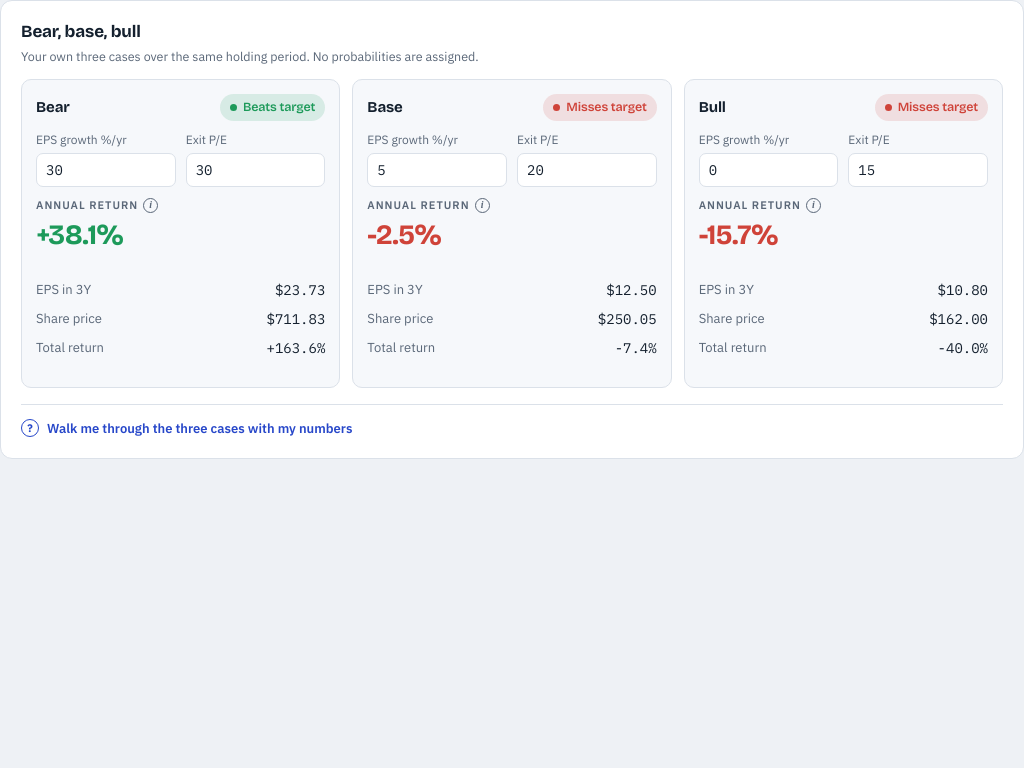
Test: the walkthrough of the three cases › names the actual passing case when the outcomes are reordered
What coordinates should you click on to do the following:
click the button "Walk me through the three cases with my numbers"
I would click on:
 (187, 428)
Its box is [21,416,352,440].
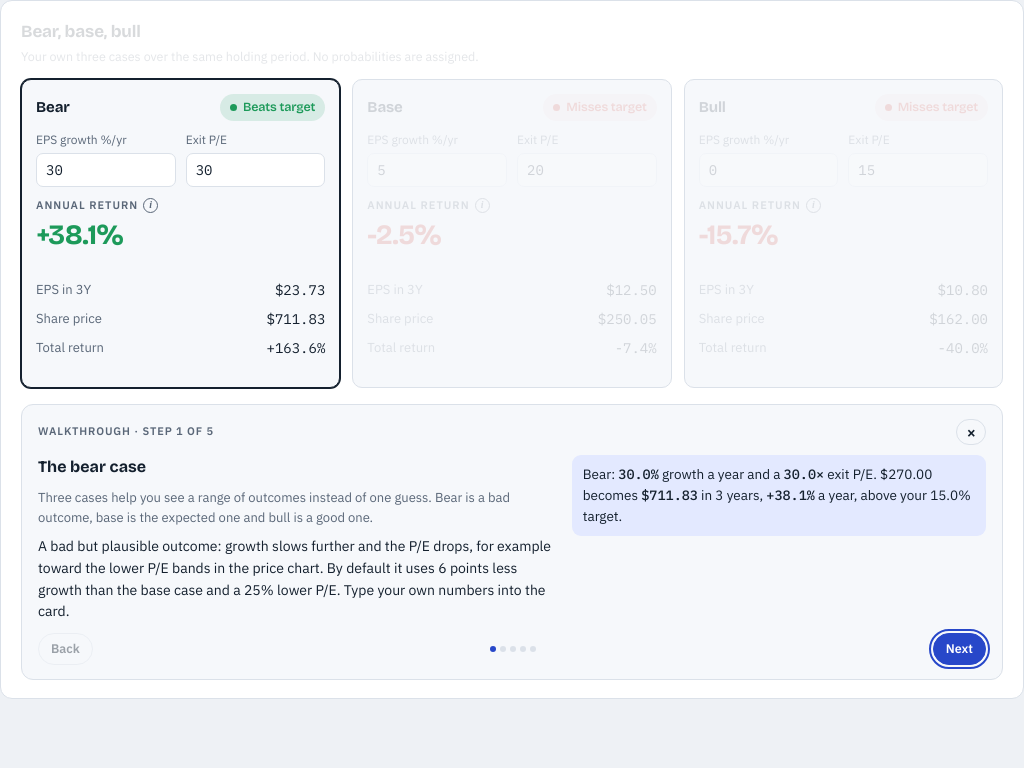
What coordinates should you click on to do the following:
click the button "Next"
I would click on:
 (959, 649)
Its box is [933,633,986,664].
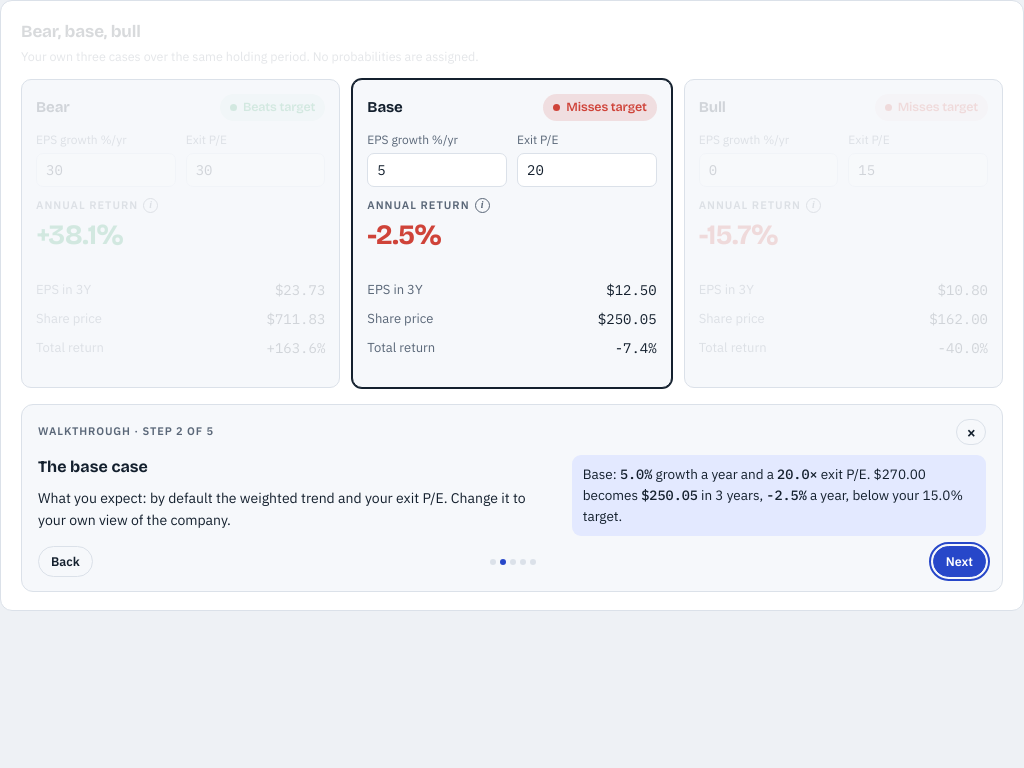
What coordinates should you click on to do the following:
click the button "Next"
I would click on:
 (959, 562)
Its box is [933,546,986,578].
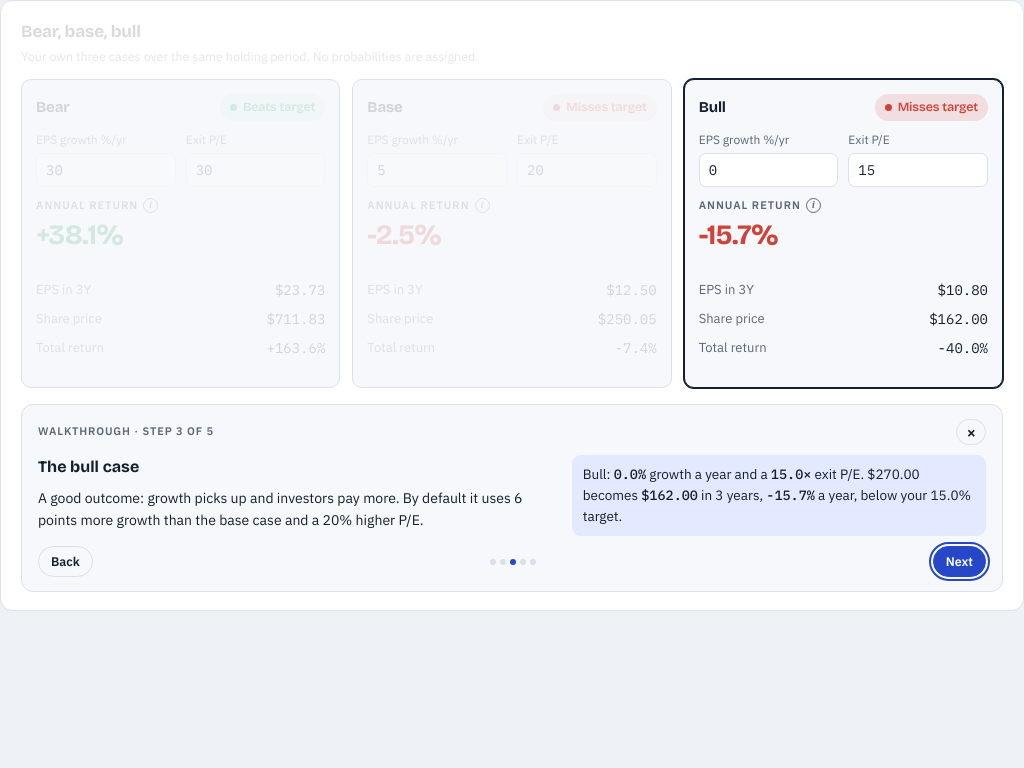
What coordinates should you click on to do the following:
click the button "Next"
I would click on:
 (959, 562)
Its box is [933,546,986,578].
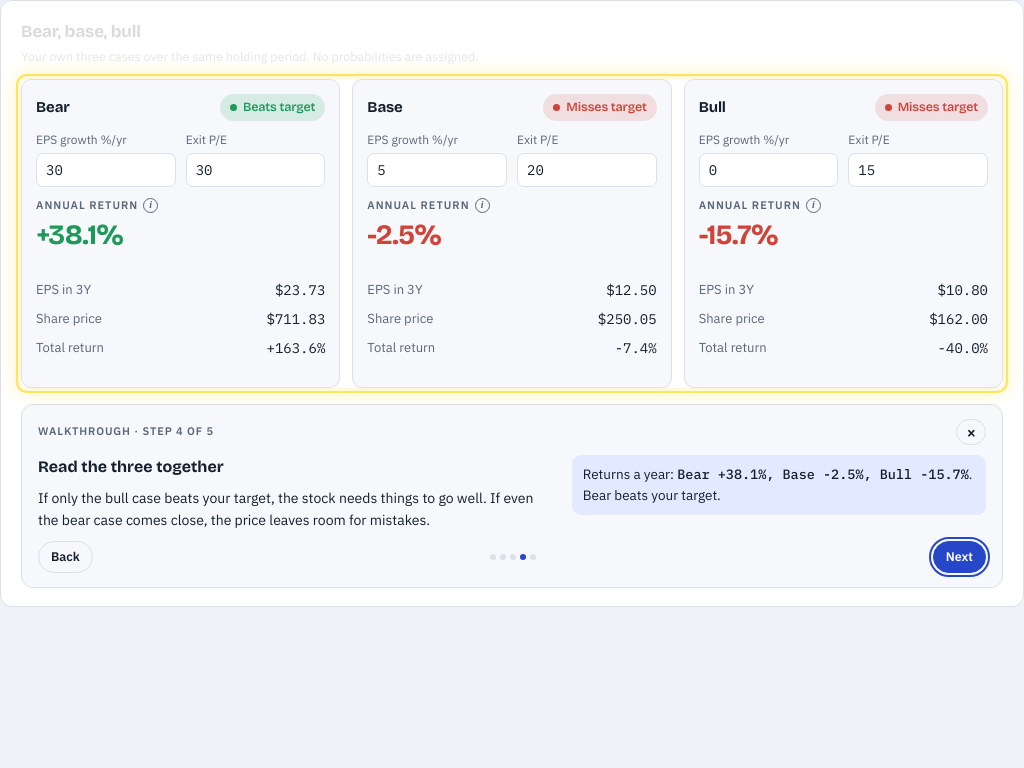
Check: the element named "Walkthrough of the bear, base and bull cases" shows "Bear beats your target.", box [583,486,721,504]
What coordinates should you click on to do the following:
click the button "Next"
I would click on:
 (959, 557)
Its box is [933,542,986,573].
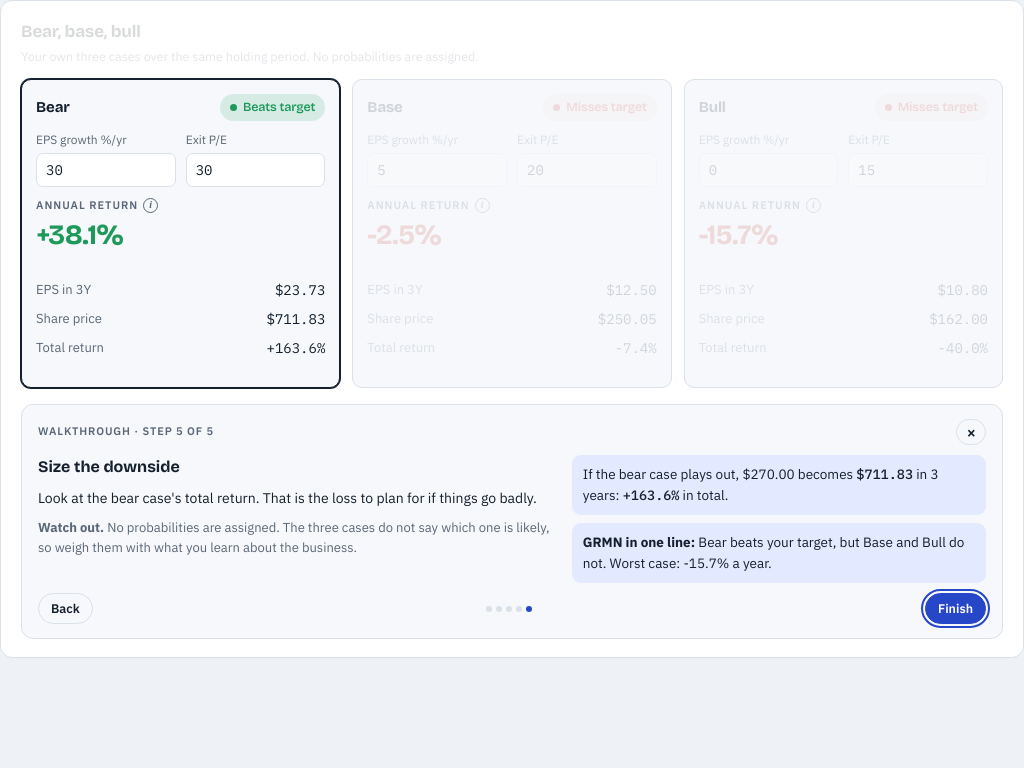
Check: the element named "Walkthrough of the bear, base and bull cases" shows "GRMN in one line: Bear beats your target, but Base and Bull do not.", box [21,404,1003,639]
